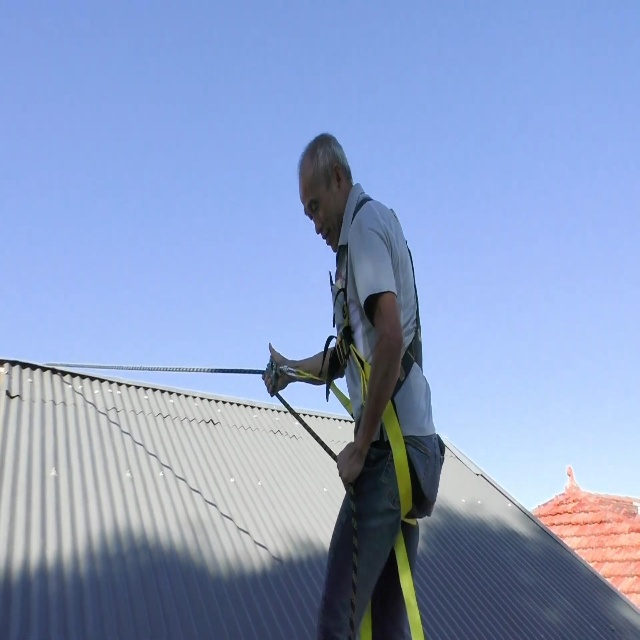Arnes_seguridad: (313, 190, 448, 530)
